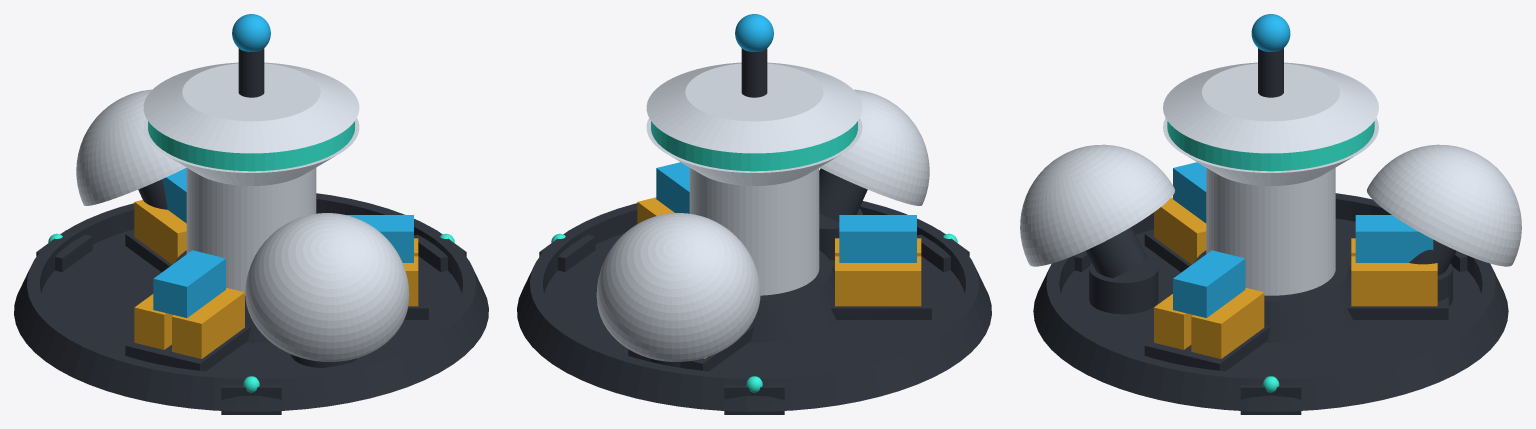
The model's file is trade_station.obj.
The picture shows the model from 3 angles, left to right: view 1: azimuth 30°, elevation 25°; view 2: azimuth 150°, elevation 25°; view 3: azimuth 270°, elevation 25°; orthographic projection.
Visible parts, largest first — view 1: trade_station; view 2: trade_station; view 3: trade_station.
Part boxes in pixels (x1=…): trade_station: x1=14, y1=14, x2=488, y2=414; trade_station: x1=517, y1=14, x2=991, y2=414; trade_station: x1=1020, y1=14, x2=1521, y2=414.
Size of the model in its own units: 22 by 15.4 by 23.23.
